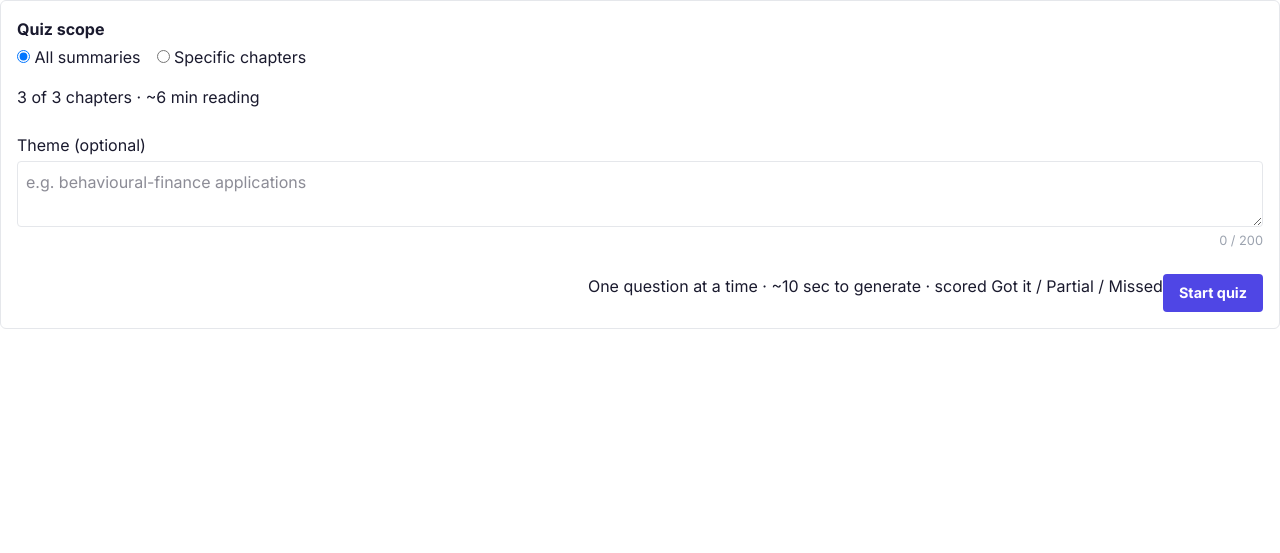
Test case: ScopePicker chapter+reading metric (FR-21) › plural denominator + 0 selected case for specific_chapters
Click the radio button with test id "scope-mode-specific".
click(163, 56)  # box [156, 50, 170, 63]
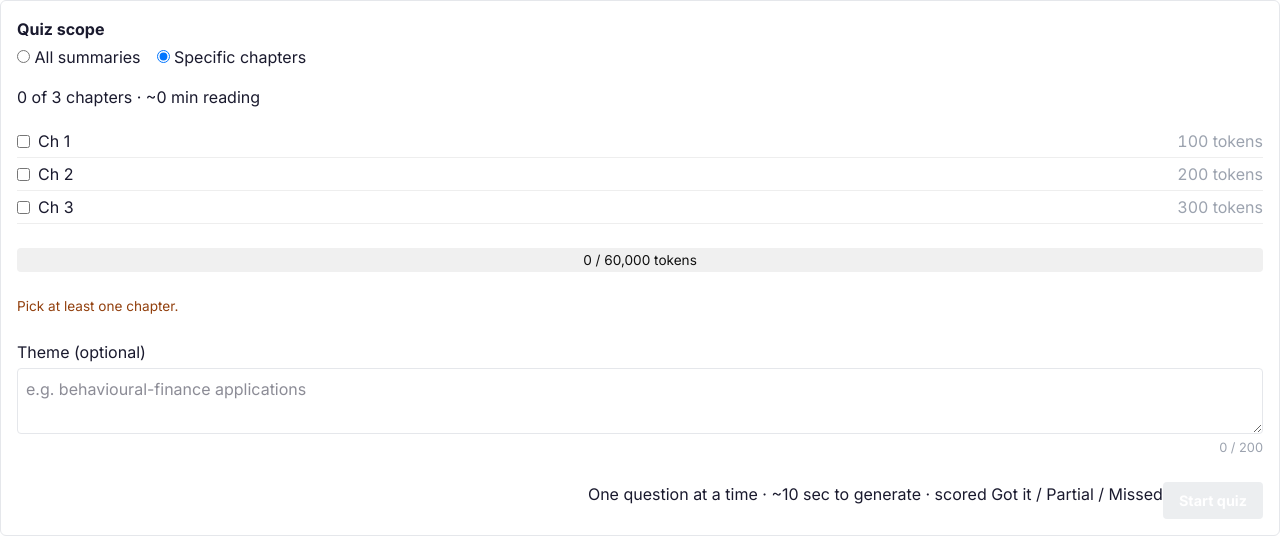
Now the text "0 of 3 chapters · ~0 min reading" is shown, box [17, 87, 260, 107]
